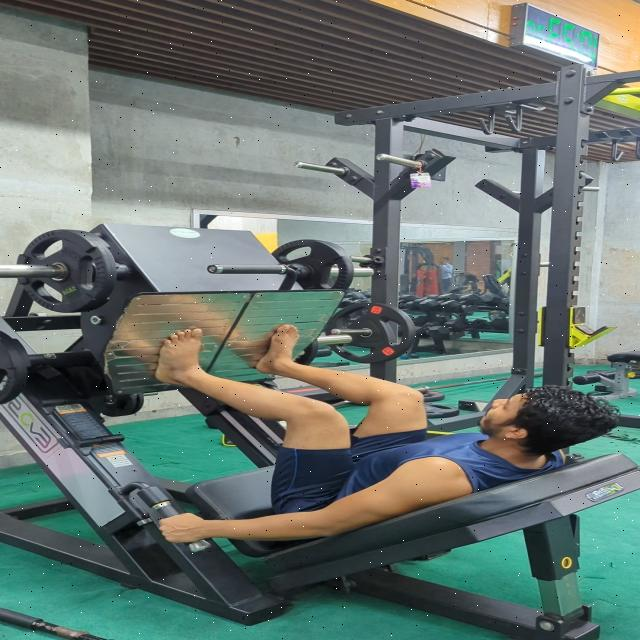Normal_LegPress: (121, 320, 620, 550)
